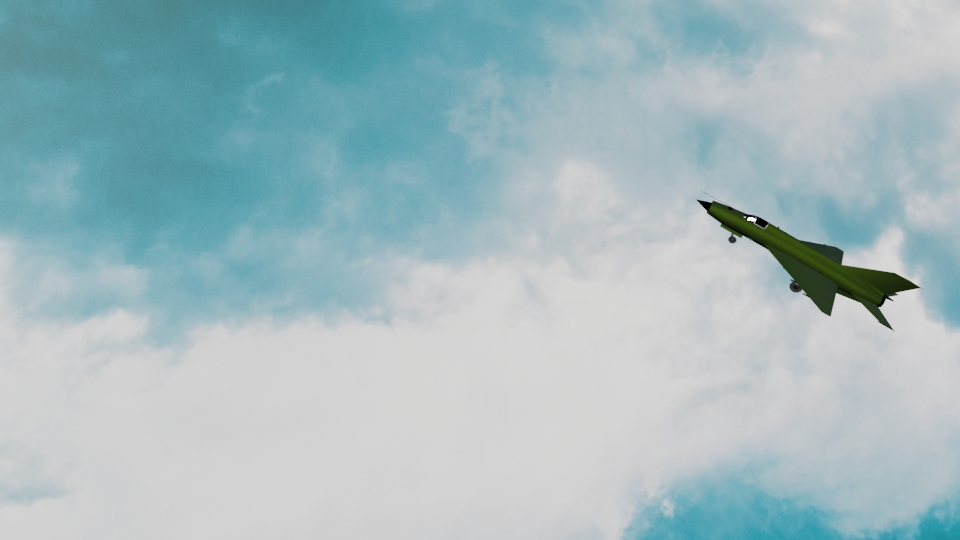plane: (695, 196, 920, 332)
